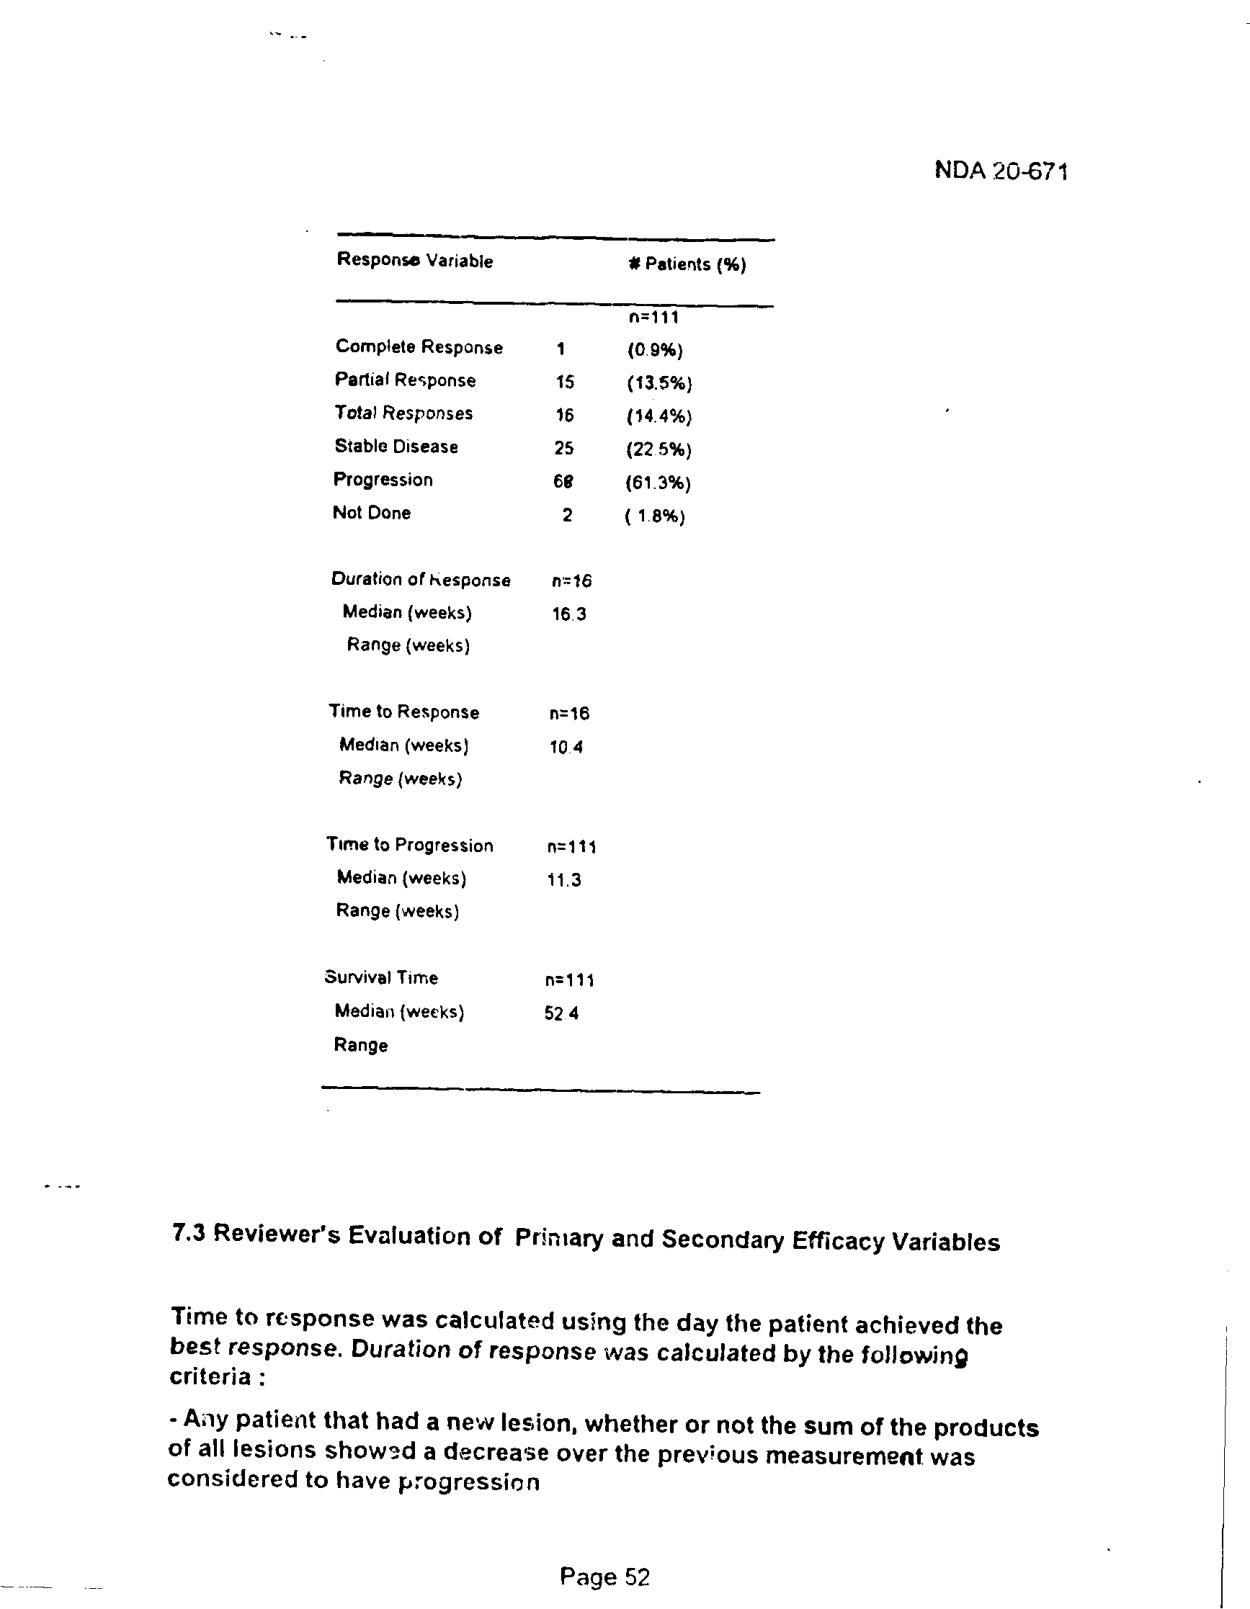partial_lined: (319, 230, 777, 1097)
